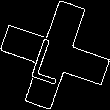L_N: (32, 26, 78, 84)
